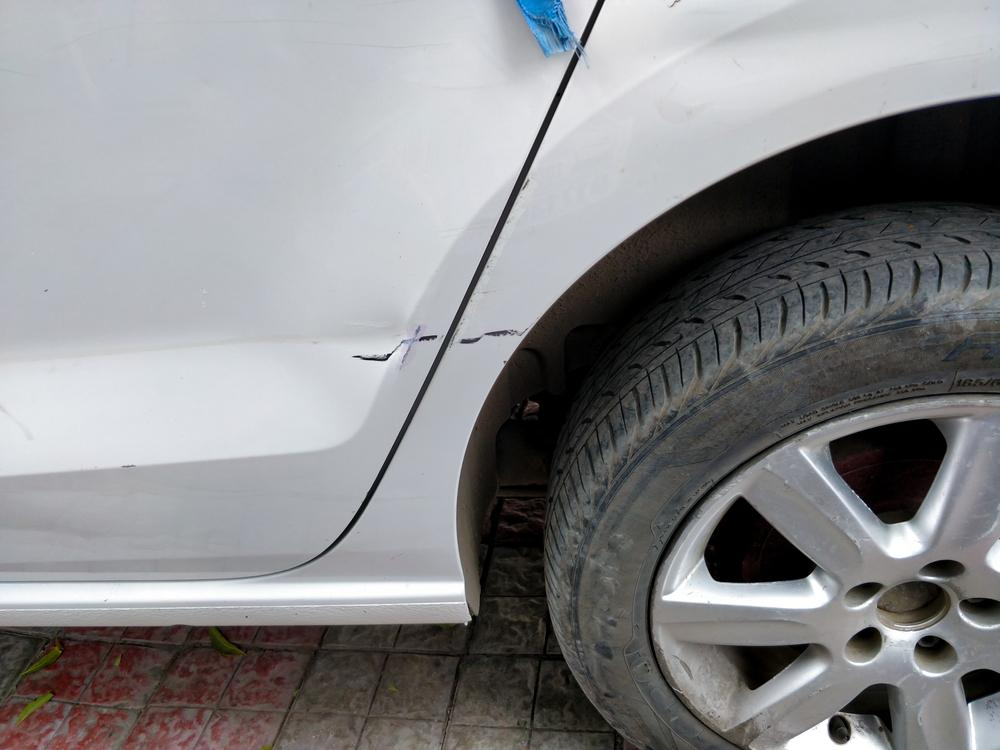crack: (348, 335, 438, 362)
dent: (626, 21, 861, 109)
scratch: (456, 326, 524, 348)
